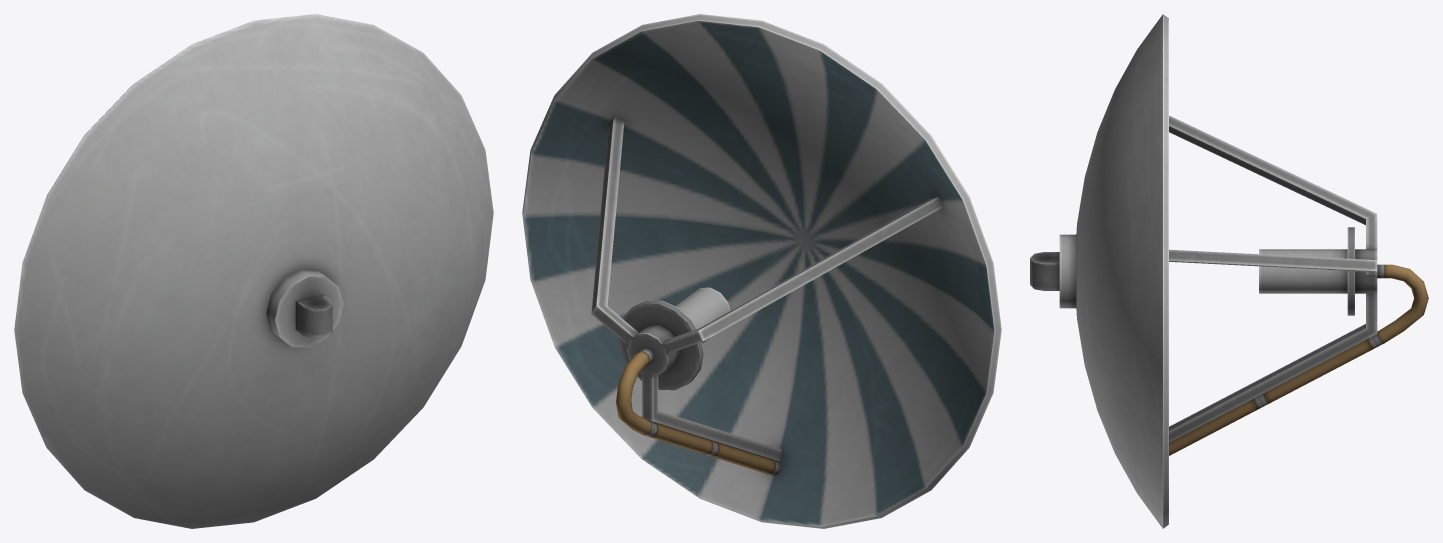
File: 4mv_v_high_gain_antenna_srf_1.obj
The picture shows the model from 3 angles, left to right: view 1: azimuth 30°, elevation 25°; view 2: azimuth 150°, elevation 25°; view 3: azimuth 270°, elevation 25°; orthographic projection. The views are drawn at different scales.
Parts seen in each view (by area): view 1: mesh1; view 2: mesh1; view 3: mesh1.
Boxes of the visible parts, x1,y1,x2,y2 form: mesh1: (14,14,493,528); mesh1: (522,14,1001,528); mesh1: (1030,14,1428,528).
Size of the model in its own units: 0.875 by 0.875 by 0.675.
Materials: 1 (1 with a texture image).
